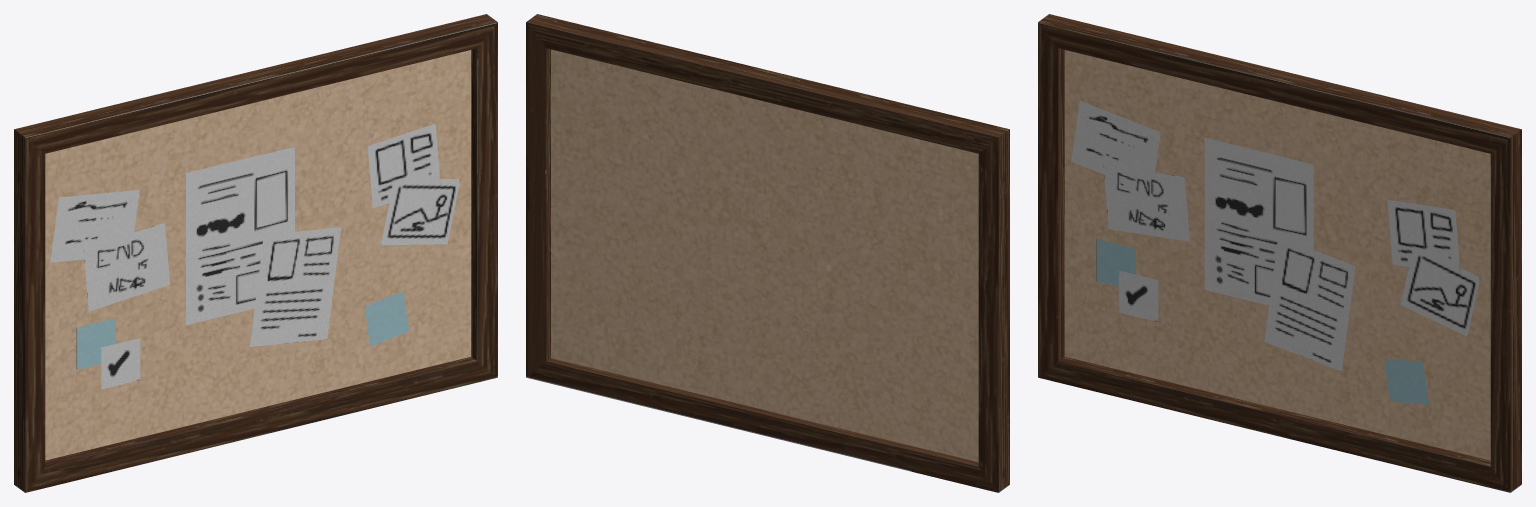
Rendered from Bacheca_Model.fbx.
3 views of the same model, side by side, from view 1: azimuth 30°, elevation 25°; view 2: azimuth 150°, elevation 25°; view 3: azimuth 330°, elevation 25° (orthographic).
Visible parts, largest first — view 1: pCube15; view 2: pCube15; view 3: pCube15.
Boxes of the visible parts, x1,y1,x2,y2 form: pCube15: (14,14,497,492); pCube15: (526,14,1009,492); pCube15: (1038,14,1521,492).
Size of the model in its own units: 363 by 261 by 14.91.
